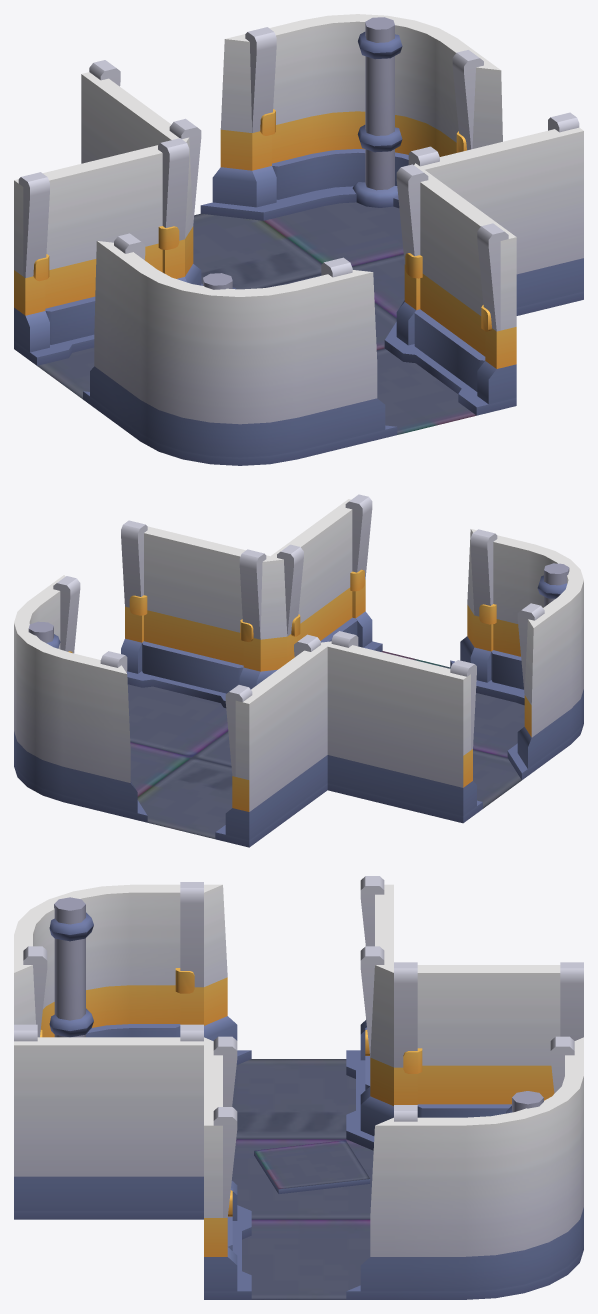
Rendered from room-small-variation.glb.
3 renders of one model, top to bottom at view 1: azimuth 30°, elevation 25°; view 2: azimuth 150°, elevation 25°; view 3: azimuth 270°, elevation 25°, orthographic. The views are drawn at different scales.
Parts seen in each view (by area): view 1: room-small-variation; view 2: room-small-variation; view 3: room-small-variation.
Part boxes in pixels (bbox=[...]): room-small-variation: bbox=[14, 14, 583, 465]; room-small-variation: bbox=[14, 494, 583, 847]; room-small-variation: bbox=[14, 876, 583, 1299].
Bounding box in the file's own units: 12 × 4.25 × 12.
Materials: 1 (1 with a texture image).
